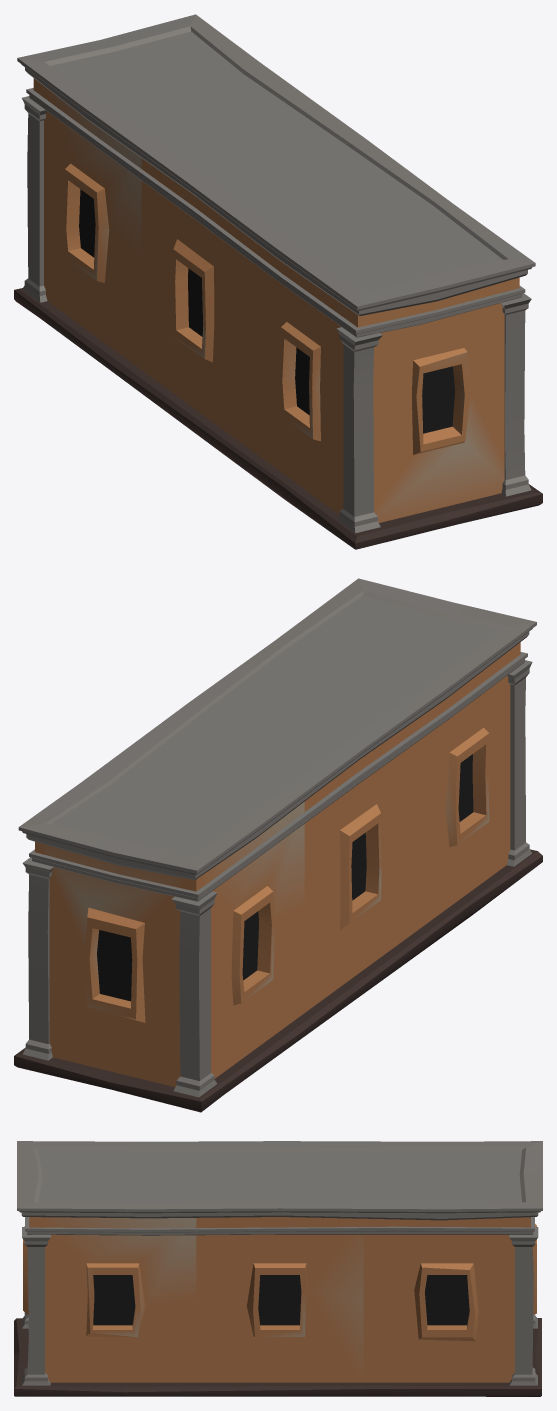
Rendered from SM_Bld_Cuba_Hall_Room_01.glb.
3 views of the same model, one above another, from view 1: azimuth 30°, elevation 25°; view 2: azimuth 150°, elevation 25°; view 3: azimuth 270°, elevation 25° (orthographic). The views are drawn at different scales.
Visible parts, largest first — view 1: SM_Bld_Cuba_Hall_Room_01; view 2: SM_Bld_Cuba_Hall_Room_01; view 3: SM_Bld_Cuba_Hall_Room_01.
Part boxes in pixels (x1,y1,x2,y2): SM_Bld_Cuba_Hall_Room_01: [14, 14, 542, 549]; SM_Bld_Cuba_Hall_Room_01: [14, 578, 542, 1112]; SM_Bld_Cuba_Hall_Room_01: [14, 1141, 542, 1396].
Bounding box in the file's own units: 0.0359 × 0.0442 × 0.1132.
